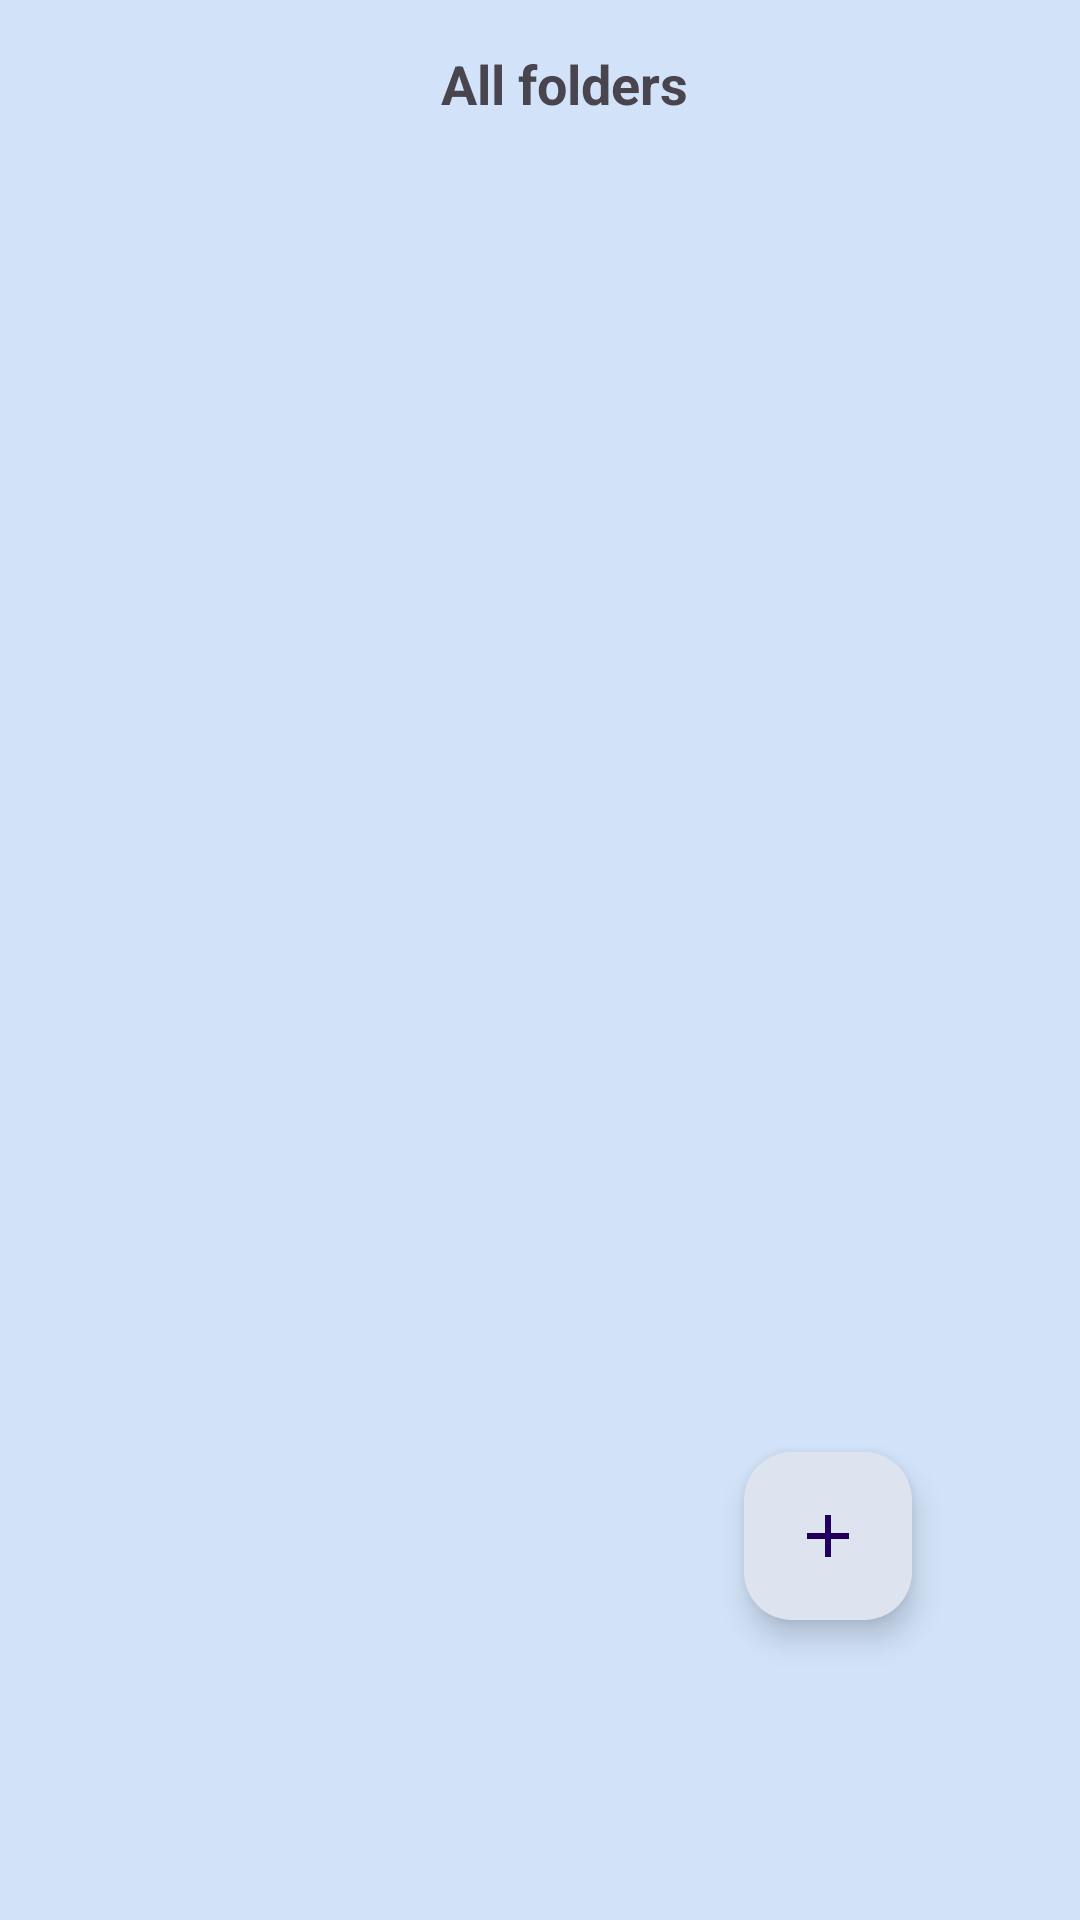

Where icons sit on this 1080 x 1920 app screen, as (x1=x1, y1=y1, x2=x2, y2=y2):
add: (x1=744, y1=1452, x2=912, y2=1620)
